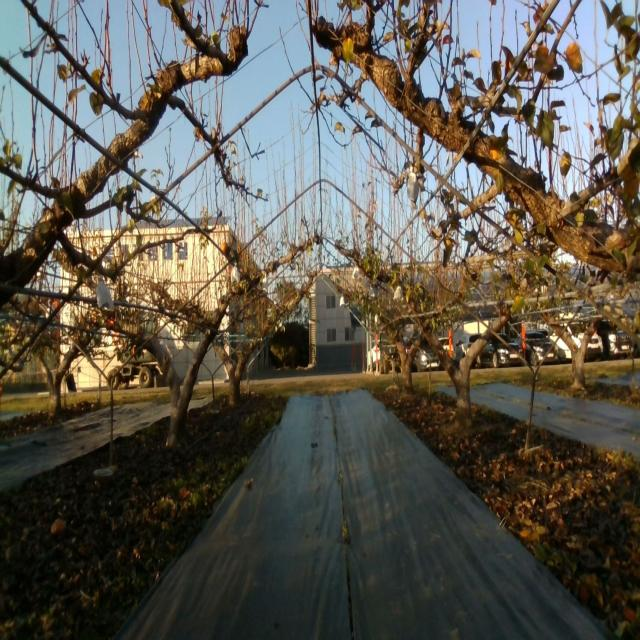pearbags: (96, 274, 115, 312), (406, 166, 419, 208), (230, 262, 240, 284)
